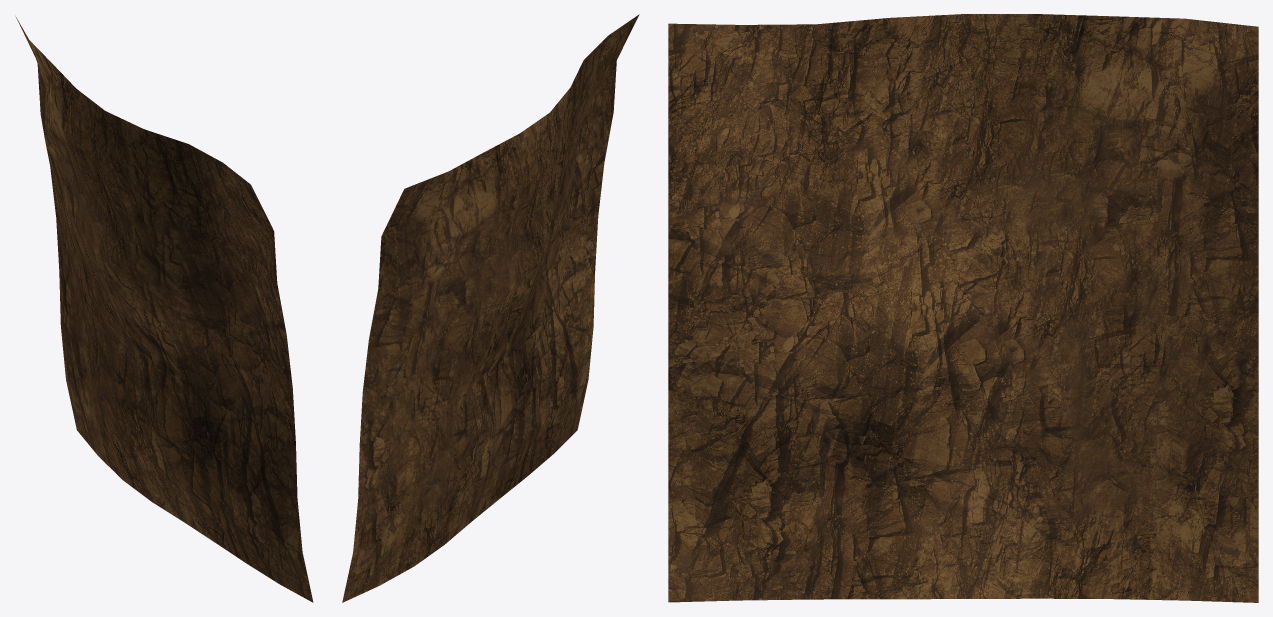
The model's file is rock_cliff_01.fbx.
3 renders of one model, left to right at view 1: azimuth 30°, elevation 25°; view 2: azimuth 150°, elevation 25°; view 3: azimuth 270°, elevation 25°, orthographic. The views are drawn at different scales.
Visible parts, largest first — view 1: Mesh; view 2: Mesh; view 3: Mesh.
Part boxes in pixels (<box>): Mesh: <box>15,16,313,602</box>; Mesh: <box>342,14,639,602</box>; Mesh: <box>668,14,1258,602</box>.
Size of the model in its own units: 89.75 by 408 by 400.
Materials: 1 (1 with a texture image).
